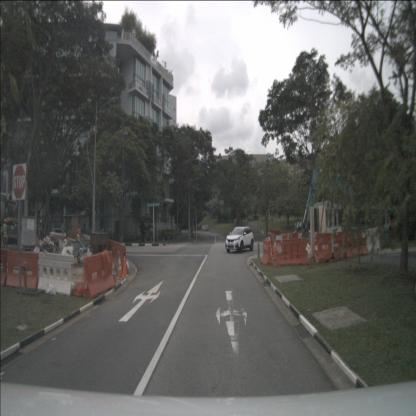barrier: (37, 251, 75, 296), (82, 250, 116, 299), (6, 251, 39, 290), (275, 239, 308, 266), (315, 232, 344, 262), (106, 238, 128, 275), (344, 230, 368, 258), (365, 227, 380, 255), (260, 240, 274, 266), (281, 234, 298, 254), (0, 247, 8, 287), (264, 236, 275, 257), (276, 235, 287, 254), (268, 228, 276, 236), (274, 229, 281, 238)
cone: (110, 260, 118, 284), (117, 257, 124, 280), (122, 256, 128, 278)
